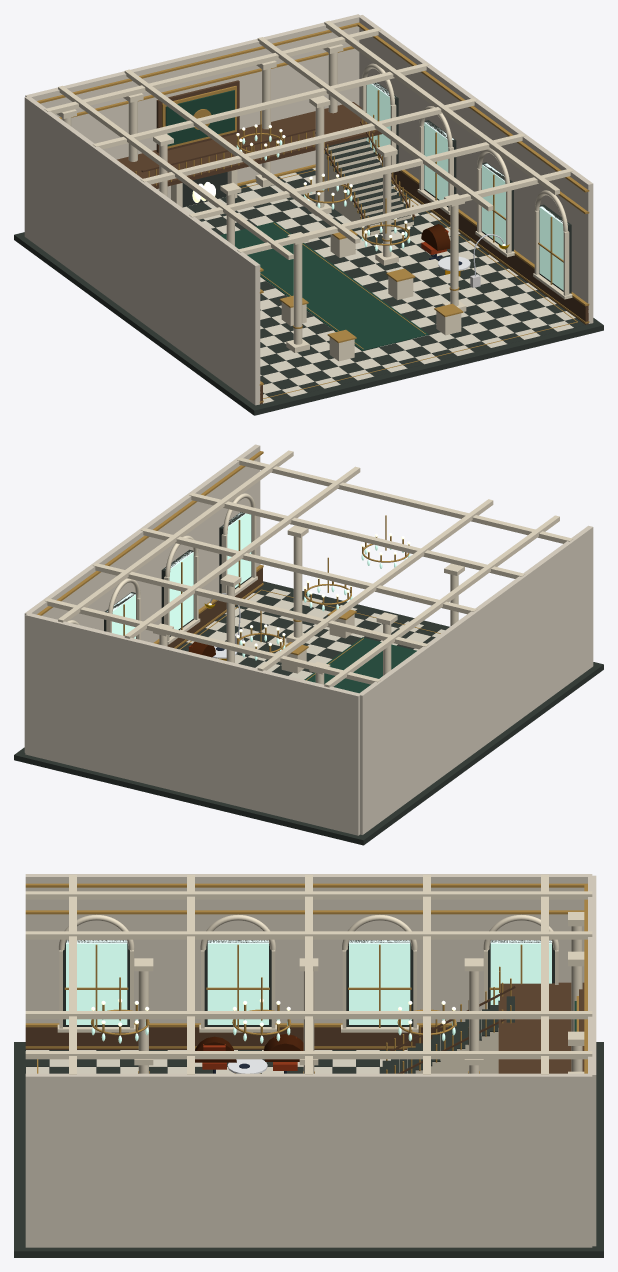
Rendered from manor.glb.
The picture shows the model from 3 angles, top to bottom: view 1: azimuth 30°, elevation 25°; view 2: azimuth 150°, elevation 25°; view 3: azimuth 270°, elevation 25°; orthographic projection. The views are drawn at different scales.
Visible parts, largest first — view 1: My World · manor; view 2: My World · manor; view 3: My World · manor.
Part boxes in pixels (x1=…): My World · manor: x1=14, y1=14, x2=603, y2=415; My World · manor: x1=14, y1=444, x2=603, y2=845; My World · manor: x1=14, y1=874, x2=603, y2=1257.
Size of the model in its own units: 21 by 8.44 by 25.
